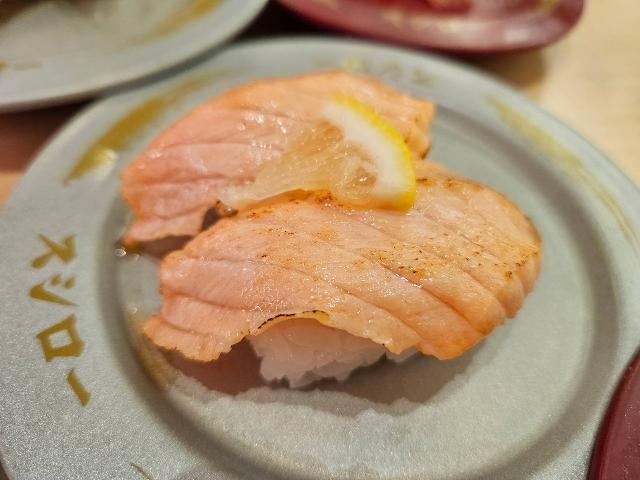janred: (267, 0, 586, 60), (624, 343, 640, 480)
janwhite: (47, 72, 615, 480), (10, 0, 214, 81)
